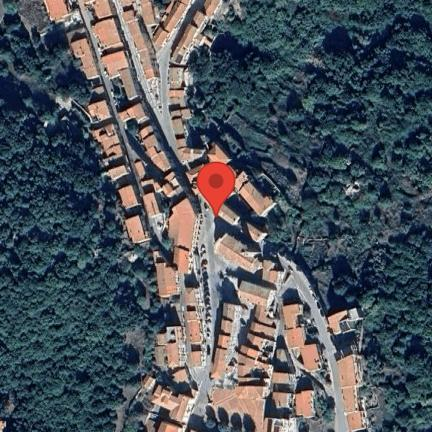area_open: (194, 213, 245, 303), (142, 79, 172, 131), (278, 270, 307, 303), (152, 212, 172, 257), (158, 294, 185, 325), (188, 367, 215, 398)
built: (210, 280, 281, 432), (88, 98, 154, 244), (169, 1, 226, 164), (84, 0, 141, 102), (119, 0, 190, 81), (151, 326, 201, 432), (209, 146, 278, 218), (123, 103, 178, 170), (269, 349, 318, 422), (284, 303, 326, 374), (134, 160, 184, 217), (167, 197, 204, 273), (337, 354, 370, 432), (210, 302, 242, 378), (214, 231, 264, 274), (219, 203, 269, 243), (185, 286, 208, 367), (70, 37, 99, 81), (327, 308, 364, 337), (155, 263, 182, 298), (45, 0, 77, 21), (263, 259, 287, 287)
vegetation_high: (190, 0, 432, 432), (1, 0, 162, 432)
vegetation_low: (16, 0, 87, 44), (301, 368, 335, 432), (141, 375, 156, 390)
